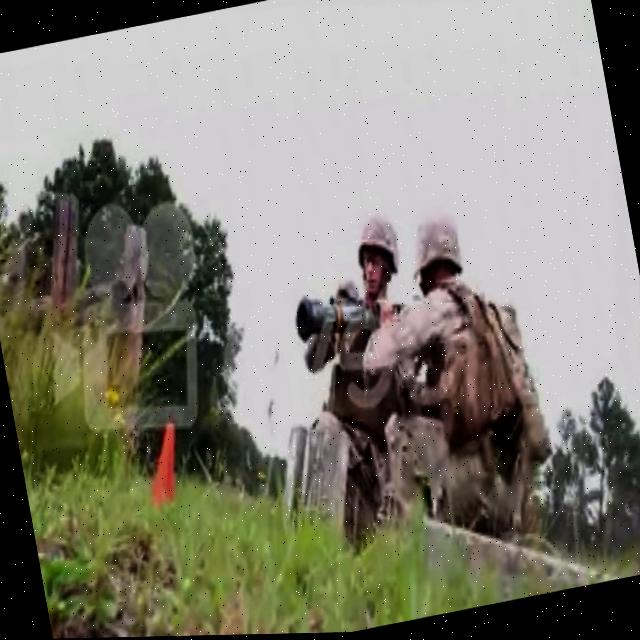rocket: (291, 281, 388, 355)
